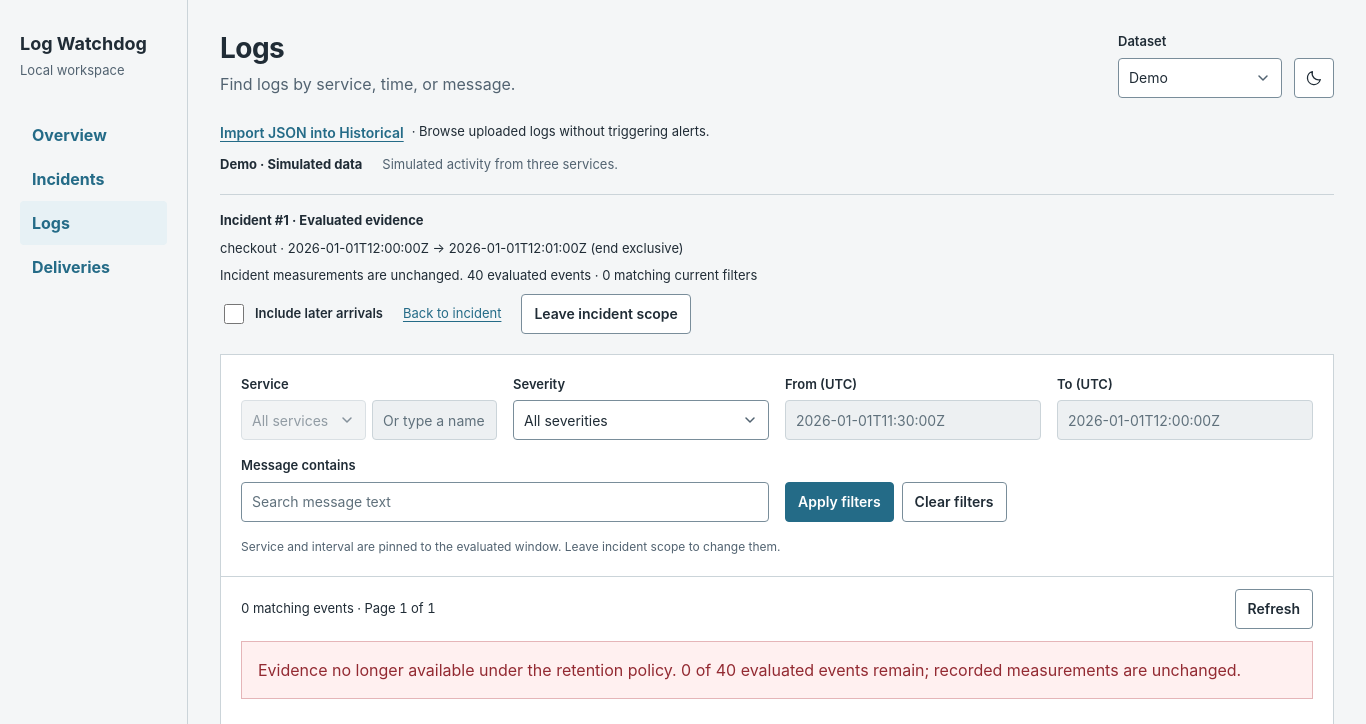
Test: distinguishes missing retained evidence, empty filters and stale demo links
Expected: the 2nd message shows "Evidence no longer available under the retention policy", left=258, top=660, right=677, bottom=680
Click the button "Refresh".
click(1274, 608)  # box left=1234, top=588, right=1313, bottom=628
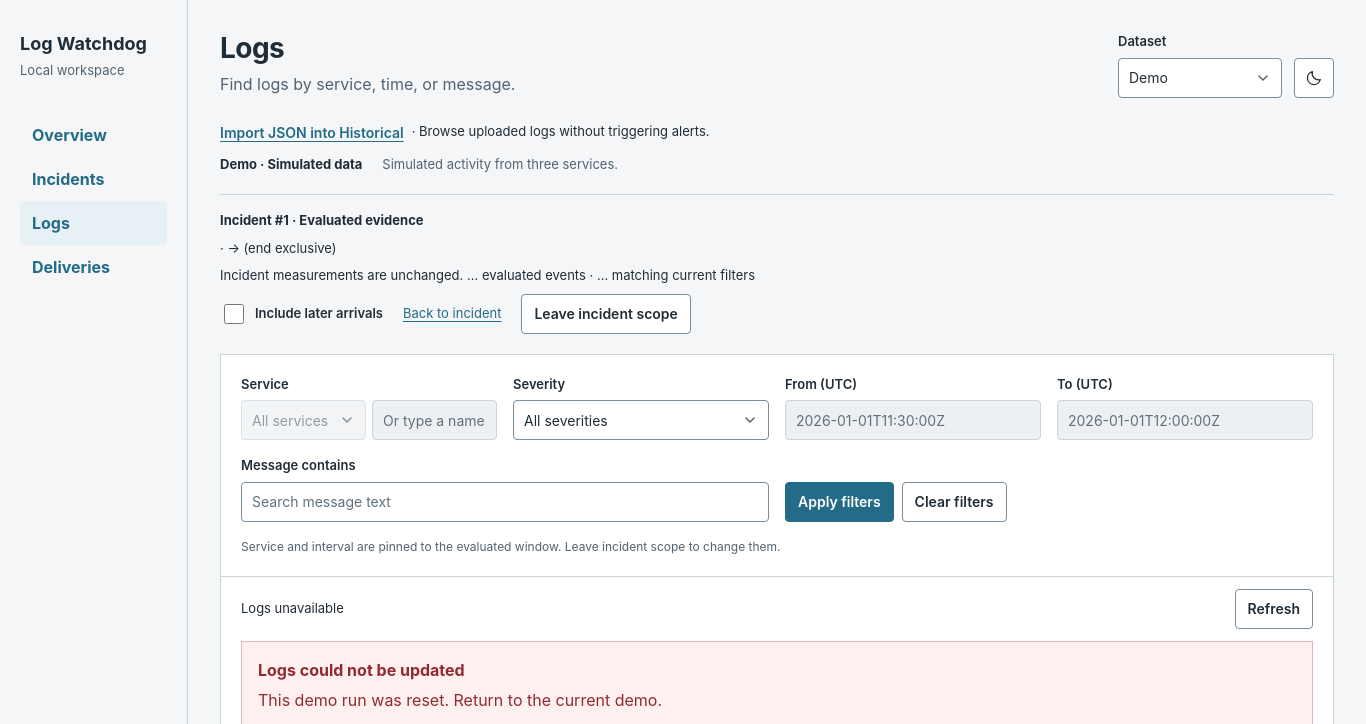
Expected: the text "This demo run was reset. Return to the current demo." is shown, left=258, top=690, right=662, bottom=710
